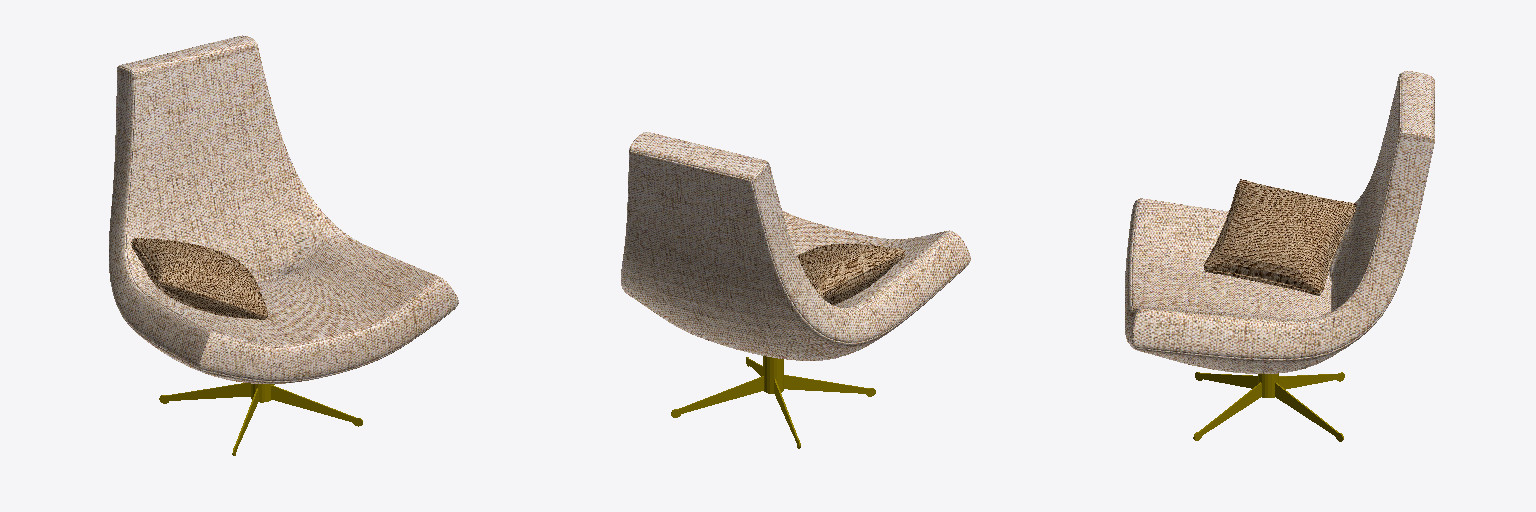
The picture shows the model from 3 angles: view 1: azimuth 30°, elevation 25°; view 2: azimuth 150°, elevation 25°; view 3: azimuth 270°, elevation 25°; orthographic projection.
Visible parts, largest first — view 1: Box02, Pillow, Line01, Line03; view 2: Box02, Pillow, Line04, Line02, Cylinder01; view 3: Box02, Pillow, Line04, Line01, Line03, Line02.
Boxes of the visible parts, box(x1,y1,x2,y2) form: Box02: box(109, 35, 458, 383); Pillow: box(131, 238, 267, 319); Line01: box(271, 385, 362, 426); Line03: box(159, 383, 250, 403); Box02: box(621, 132, 970, 360); Pillow: box(797, 244, 904, 304); Line04: box(671, 376, 763, 417); Line02: box(784, 375, 875, 396); Cylinder01: box(763, 356, 783, 393); Box02: box(1125, 71, 1434, 373); Pillow: box(1204, 179, 1355, 295); Line04: box(1275, 383, 1343, 441); Line01: box(1193, 382, 1261, 440); Line03: box(1279, 372, 1344, 389); Line02: box(1195, 372, 1257, 388).
Bounding box in the file's own units: 36.79 × 41.85 × 38.06.
Materials: 4 (2 with a texture image).